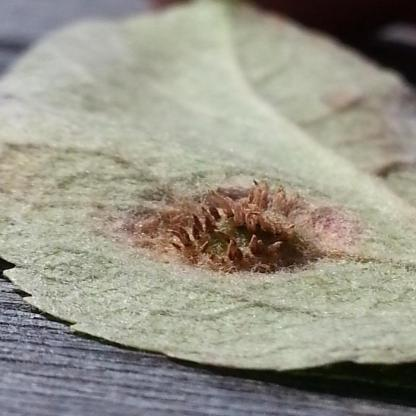apple rust leaf: (1, 3, 415, 388)
